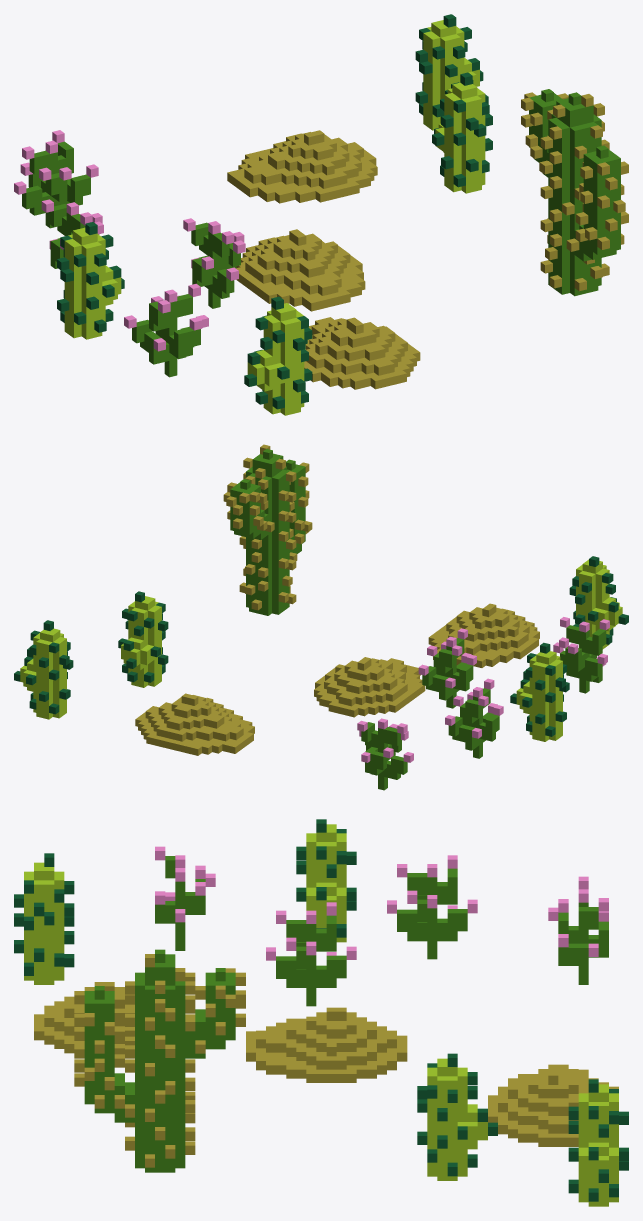
Rendered from cacti_1_overtile.obj.
3 views of the same model, one above another, from view 1: azimuth 30°, elevation 25°; view 2: azimuth 150°, elevation 25°; view 3: azimuth 270°, elevation 25° (orthographic). The views are drawn at different scales.
Bounding box in the file's own units: 6.9 × 2.3 × 6.1.
Materials: 1 (1 with a texture image).
